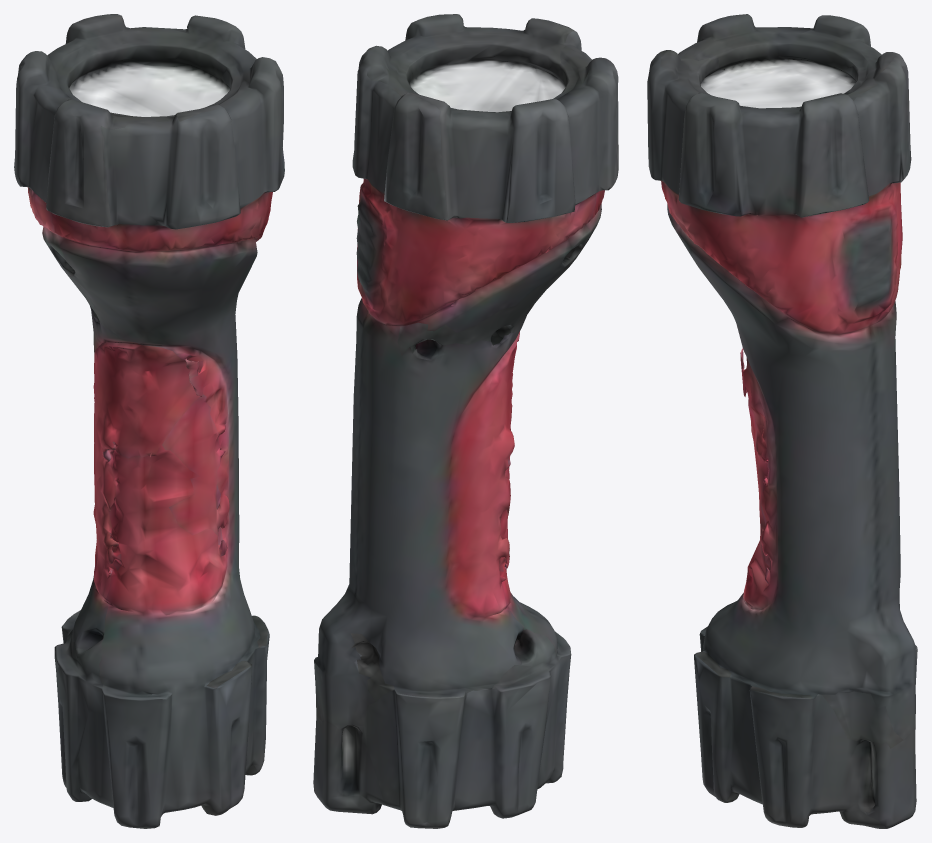
Rendered from HeavyDuty_Flashlight-high.glb.
3 renders of one model, left to right at view 1: azimuth 30°, elevation 25°; view 2: azimuth 150°, elevation 25°; view 3: azimuth 270°, elevation 25°, orthographic. The views are drawn at different scales.
Visible parts, largest first — view 1: HeavyDuty_Flashlight; view 2: HeavyDuty_Flashlight; view 3: HeavyDuty_Flashlight.
Boxes of the visible parts, bbox=[...] form: HeavyDuty_Flashlight: bbox=[14, 14, 284, 828]; HeavyDuty_Flashlight: bbox=[313, 14, 618, 828]; HeavyDuty_Flashlight: bbox=[647, 14, 917, 828].
Size of the model in its own units: 0.0776 by 0.2292 by 0.0779.
Materials: 1 (1 with a texture image).
